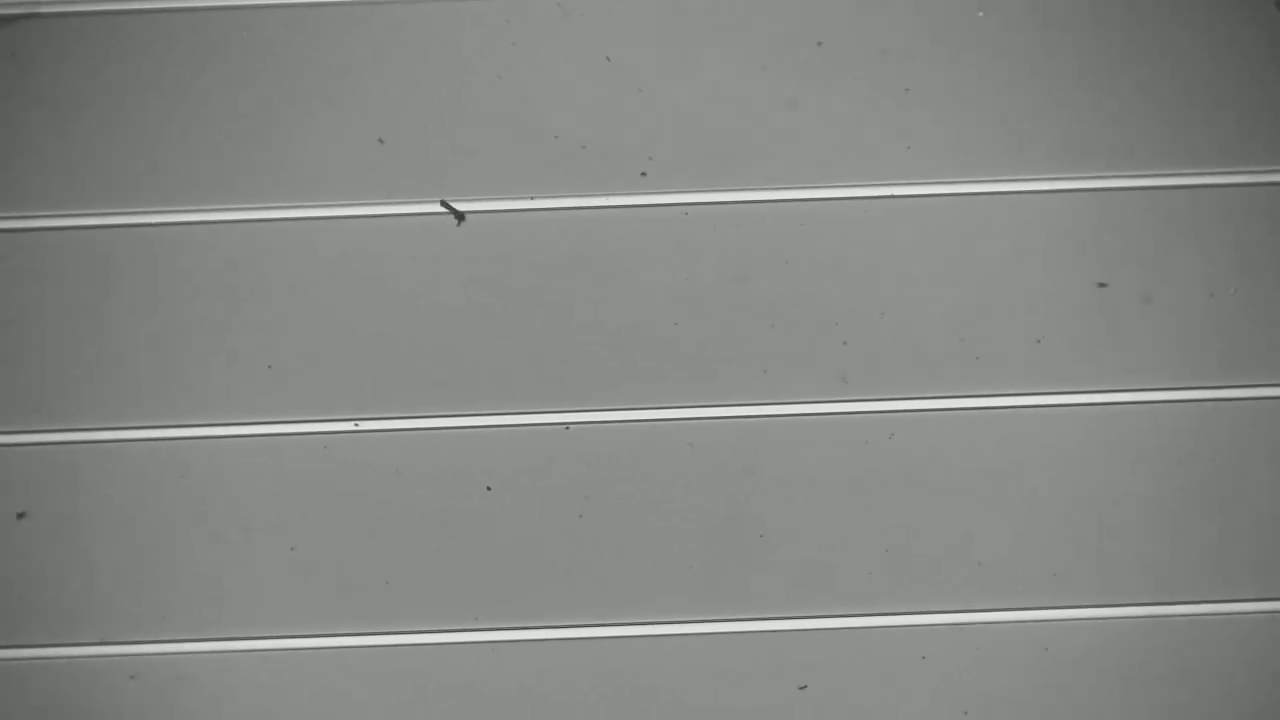stains_enbedded: (424, 183, 486, 238)
